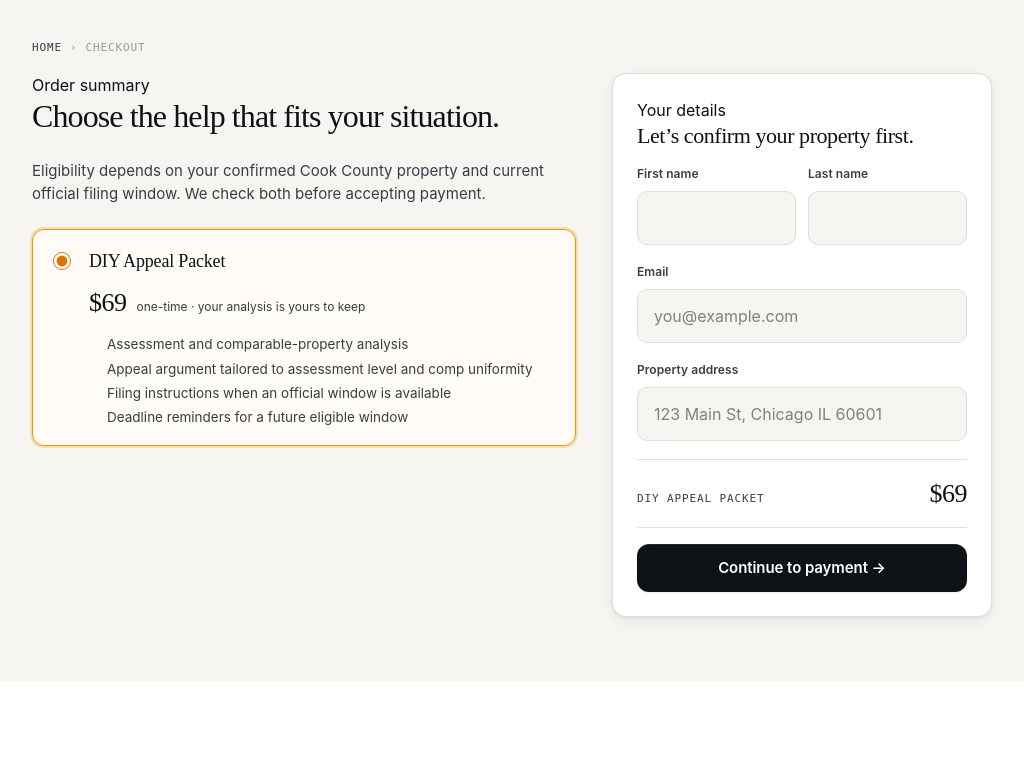
it: begin_checkout from the real checkout page › emits nothing on a network failure and releases the intent, so a later genuine attempt emits once
Later steps or results of the test are not shown.
Type "Buyer" into the field labelled "First name" at (716, 218), box [637,191,796,245]
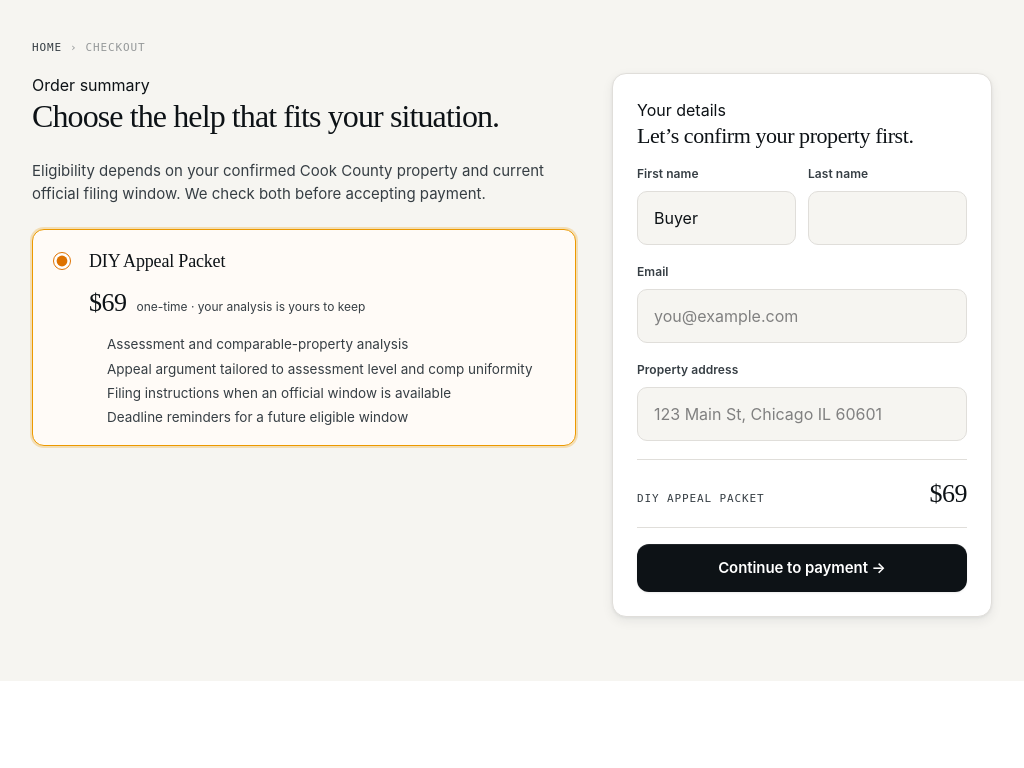
Type "Example" into the field labelled "Last name" at (888, 218), box [808,191,967,245]
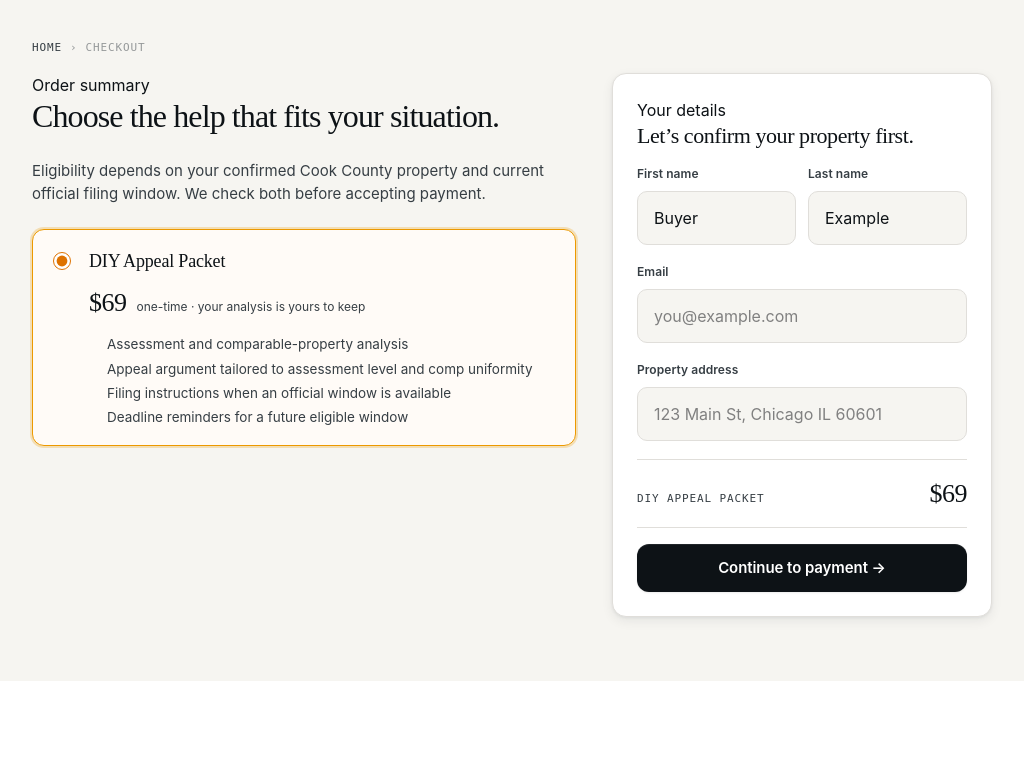
Type "buyer@example.com" into the field labelled "Email" at (802, 316), box [637,289,967,343]
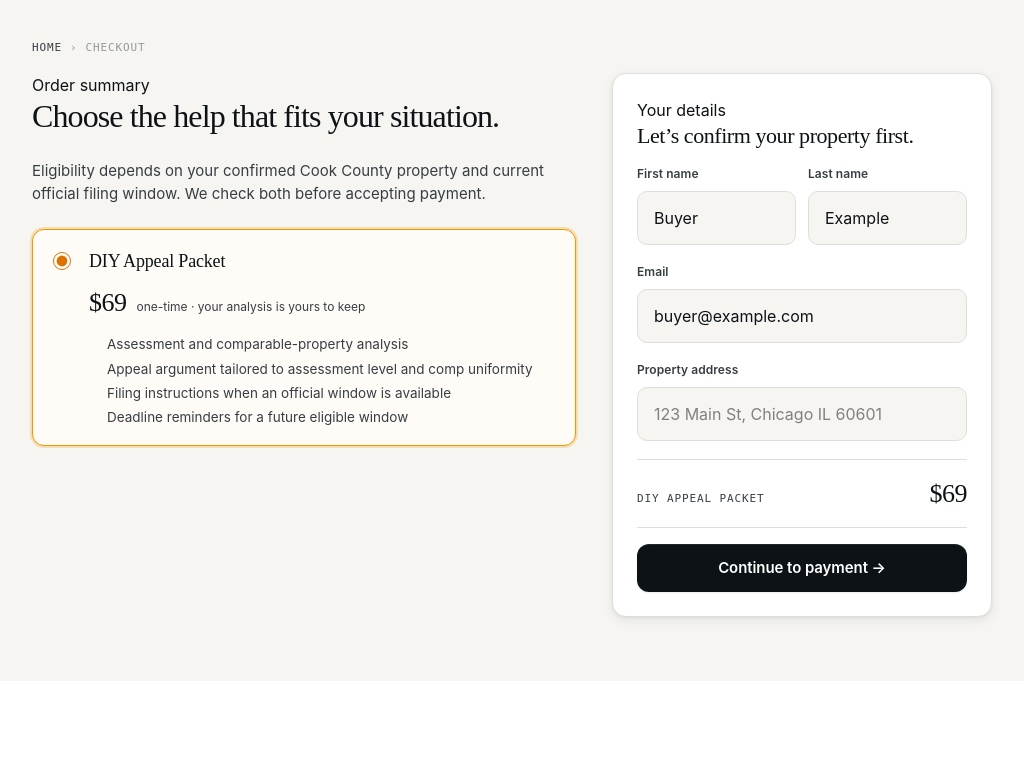
Type "2834 W Henderson St, Chicago IL 60618" into the field labelled "Property address" at (802, 414), box [637,387,967,441]
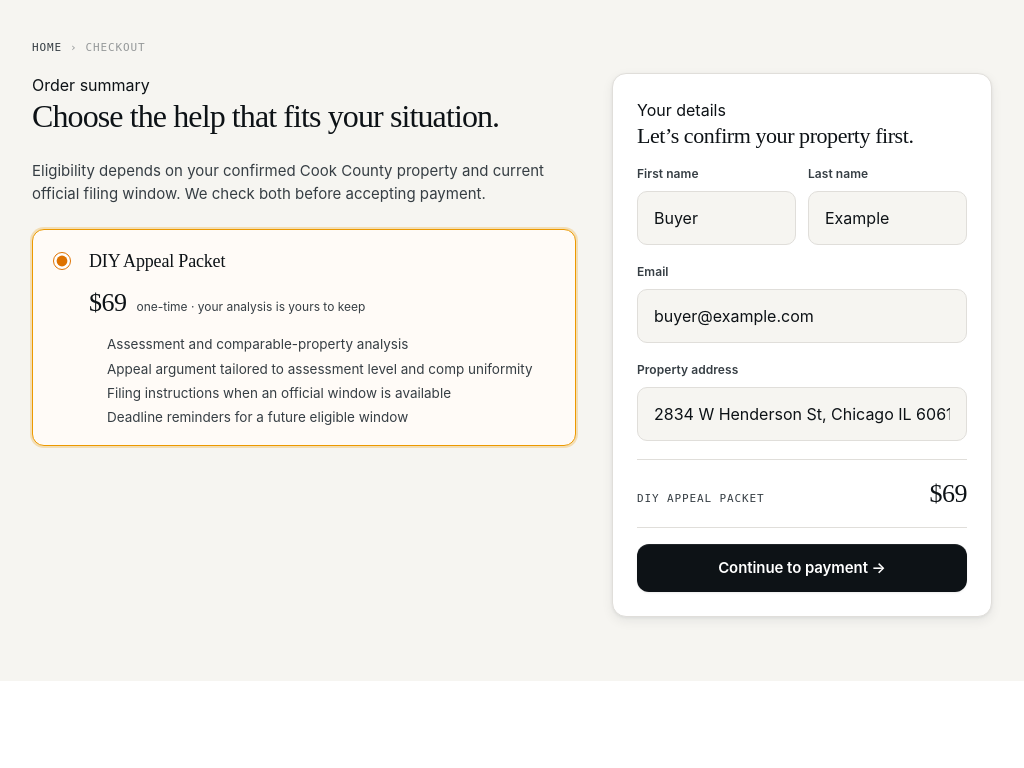
Click the button "Continue to payment →" at (802, 568), box [637,544,967,592]
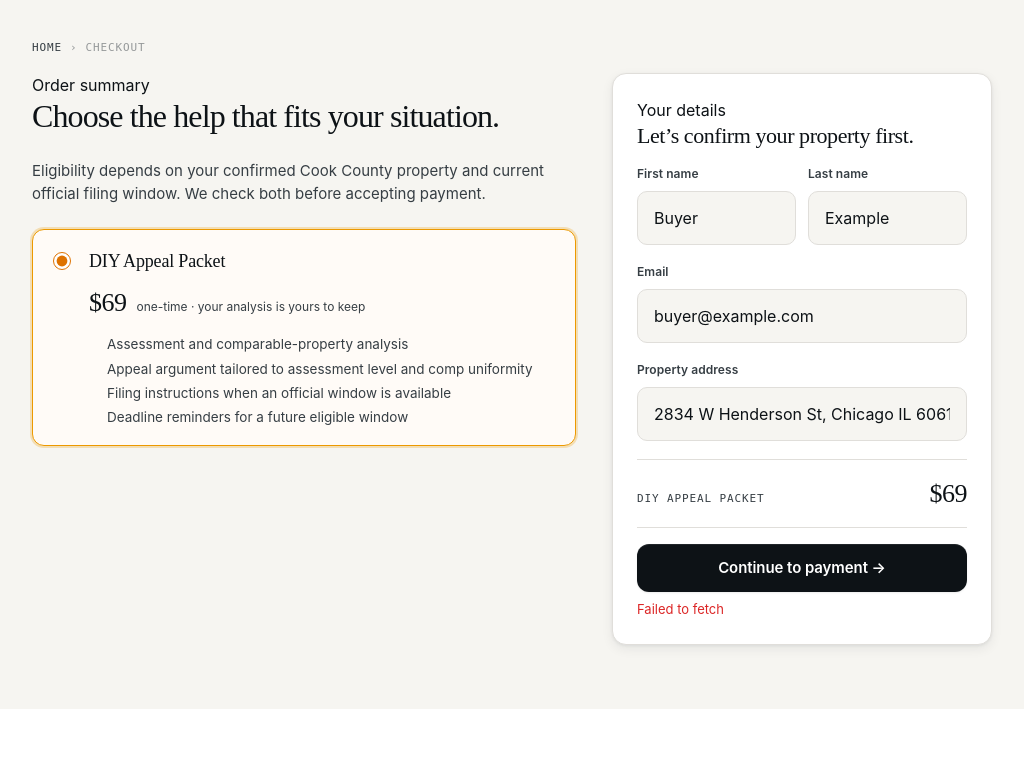
Now the text "Failed to fetch" is shown, box [637,601,724,617]
